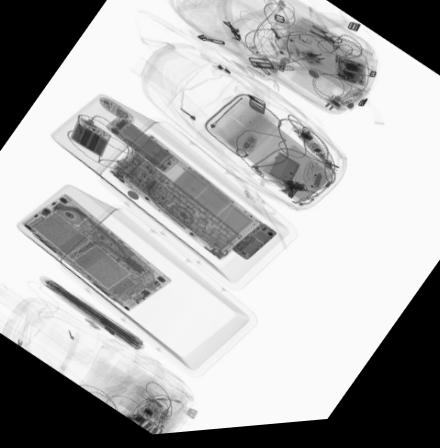Powerbank: (70, 118, 110, 158)
